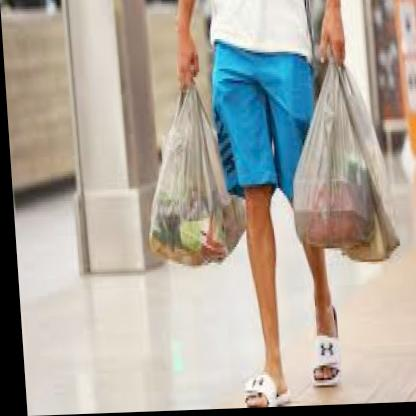Plastic: (91, 46, 247, 292), (272, 31, 412, 282)
